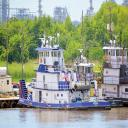tugboat: (18, 36, 112, 113)
